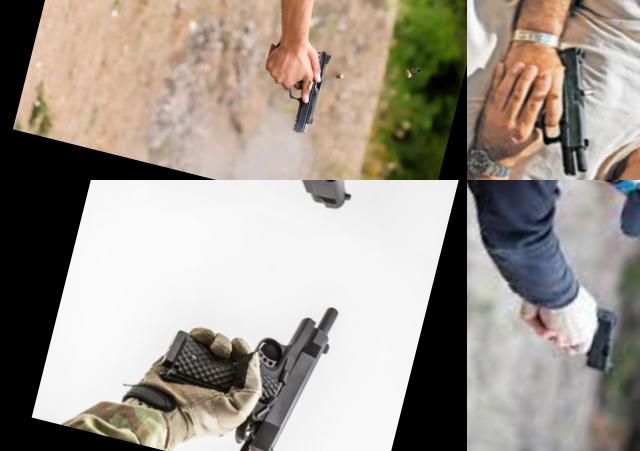handgun: (135, 266, 343, 451), (500, 30, 619, 180), (109, 180, 369, 234), (518, 289, 629, 379), (246, 33, 336, 142)
